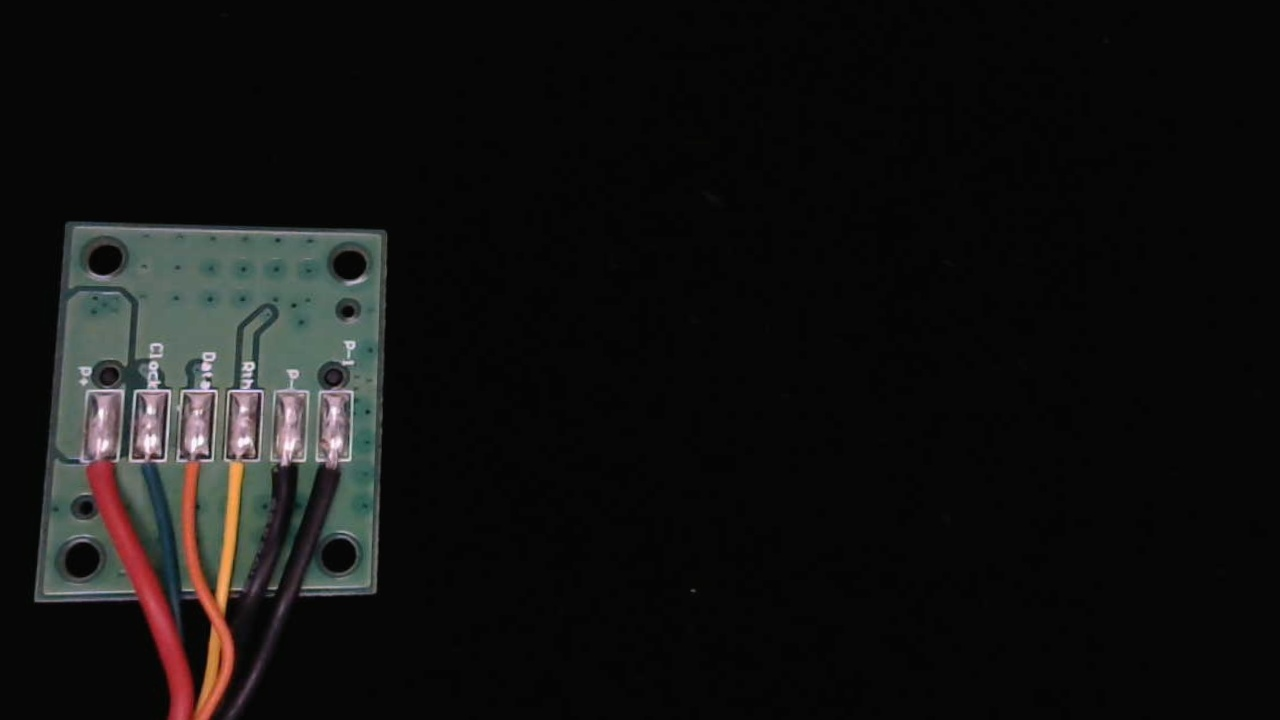Black: (267, 443, 306, 512)
Black1: (314, 440, 355, 515)
Green: (127, 439, 171, 518)
Orange: (173, 440, 215, 521)
Red: (77, 441, 120, 520)
Yellow: (218, 443, 261, 527)
